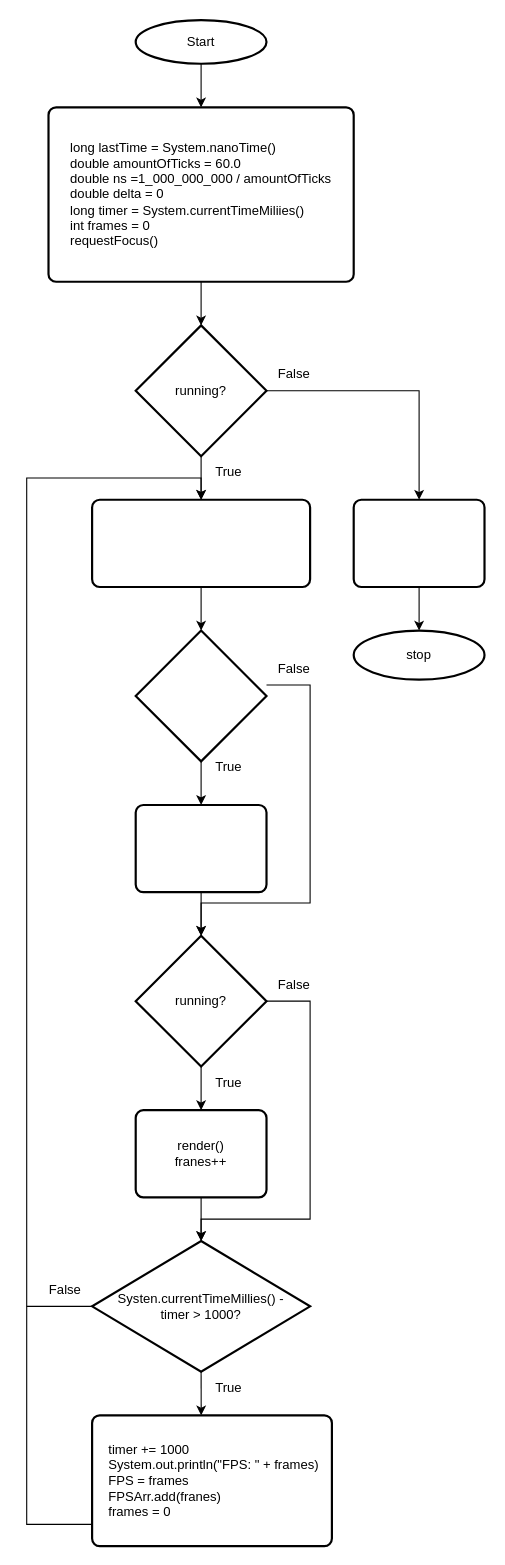
Some shapes in this 505 by 1565 pixel diagram are drawn without their labels. The shapes that lost their labels are listed below. From the top down, each one's centre as x and y in pixels, then its label:
At point 200,543: "long now = System.nanoTime() delta += (now-lastTime)/ ns lastTime = now".
At point 418,543: "thread.join running = false".
At point 200,695: "delta >= 1".
At point 200,848: "Tick() delta--".
